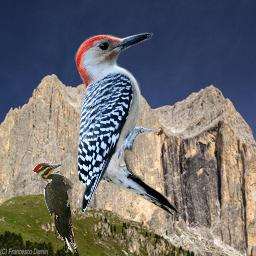Woodpecker: (66, 25, 190, 231), (32, 162, 79, 255)
